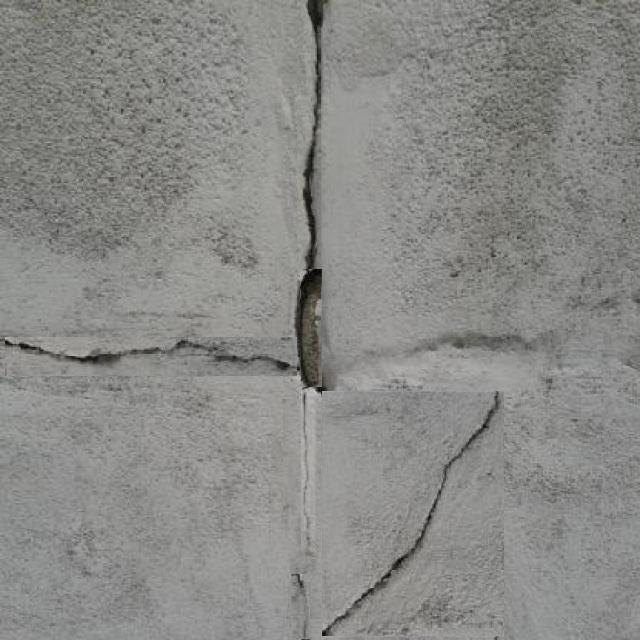diagonal crack: (322, 392, 504, 636)
horizontal crack: (6, 337, 296, 376)
vertical crack: (297, 1, 329, 389), (301, 271, 322, 389), (301, 390, 315, 550), (291, 574, 310, 639)
